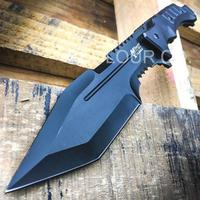knife: (3, 5, 191, 197)
